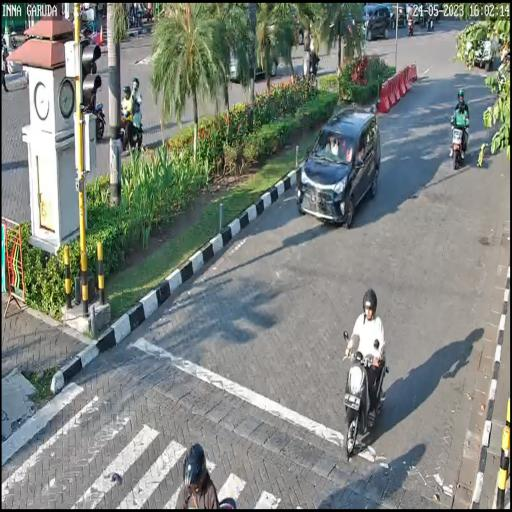mobil: (296, 106, 380, 232)
motor: (342, 331, 389, 463), (445, 110, 473, 172)
